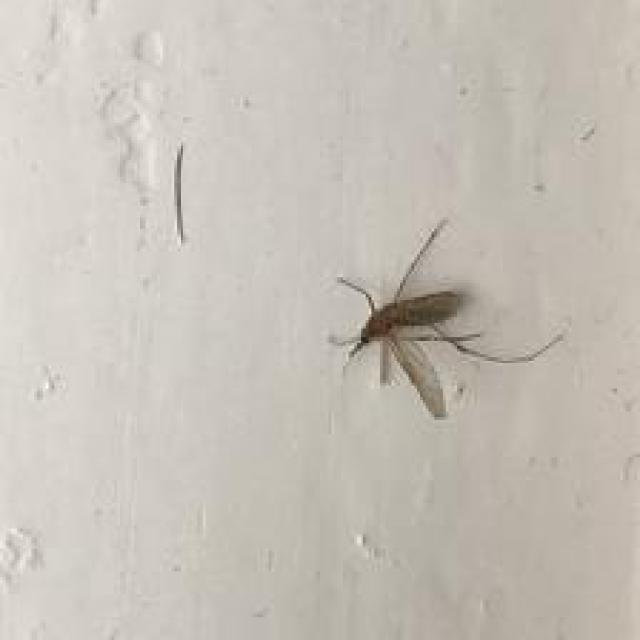Culex: (326, 215, 566, 418)
